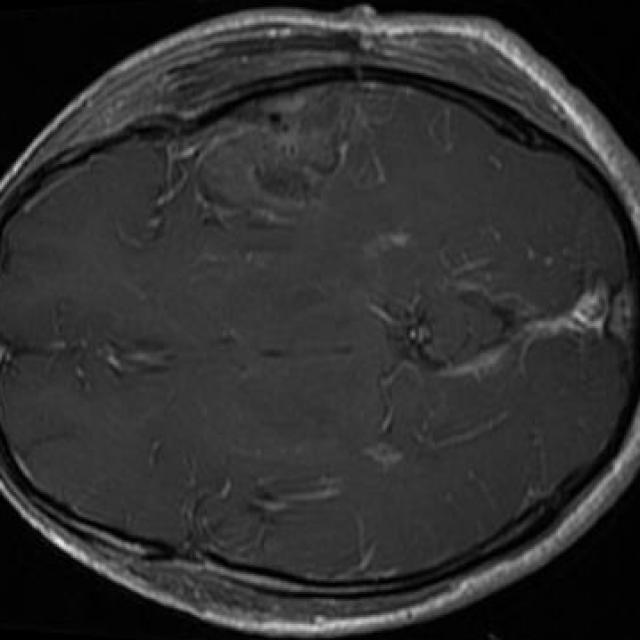glioma: (157, 82, 399, 241)
